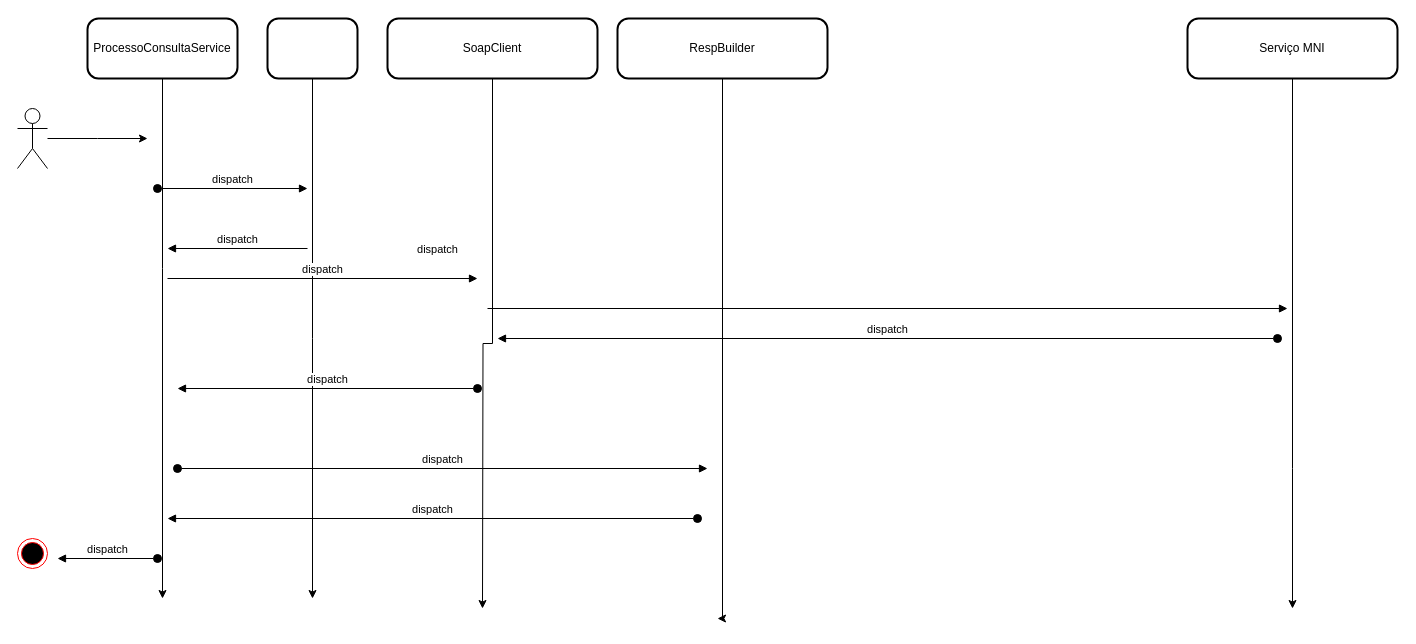
Image size: 1416x644. Some labels were removed from this diagram. The shapes that lost their labels are listed below. From the top down, each one's centre as x and y in pixels, then its label:
the point at 312,48: XmlBuider
the point at 32,138: Actor
